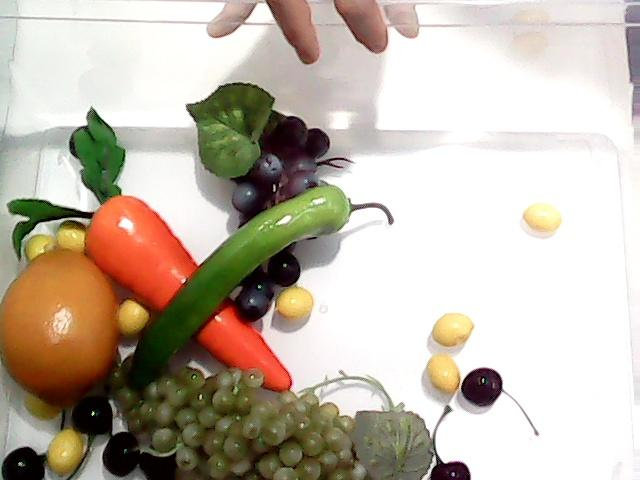carrot: (7, 105, 294, 396)
grape: (110, 348, 433, 480), (185, 82, 329, 324)
lemon: (0, 245, 116, 407)
pepper: (115, 187, 353, 393)
